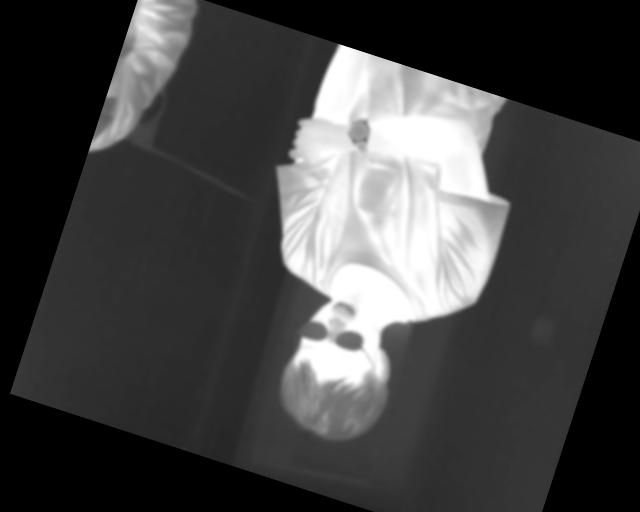face: (264, 282, 415, 455)
